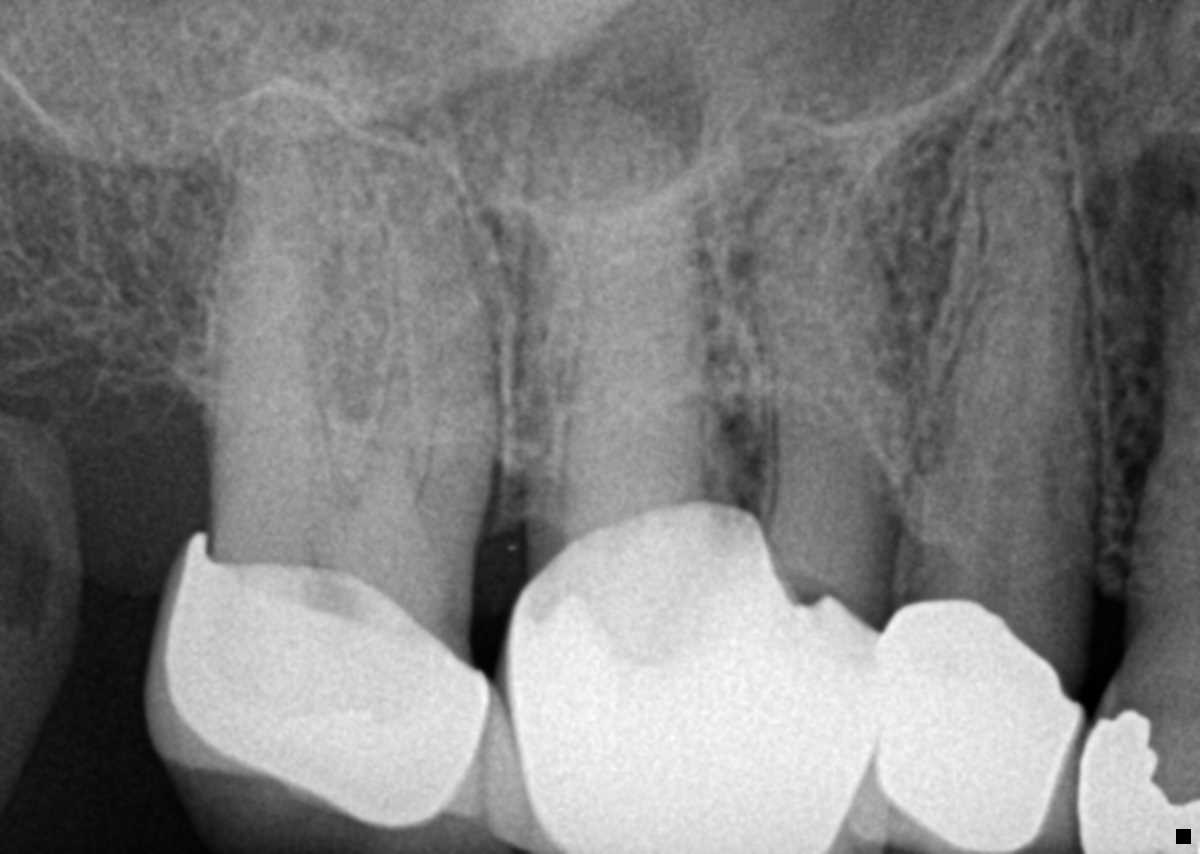Apical Lesion: (451, 0, 704, 194), (1088, 129, 1200, 474), (877, 130, 959, 336)
Distal Root: (557, 184, 710, 547), (212, 144, 335, 466)
Main Root: (904, 117, 1102, 592), (1124, 210, 1200, 615)
Mesial Root: (751, 159, 917, 595), (362, 138, 500, 544)
Palatal Root: (508, 90, 816, 586), (215, 97, 446, 571)
